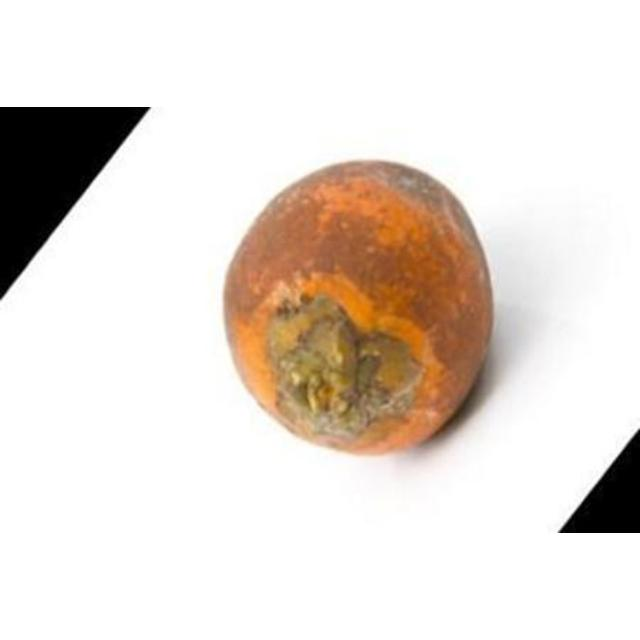good: (222, 161, 494, 458)
